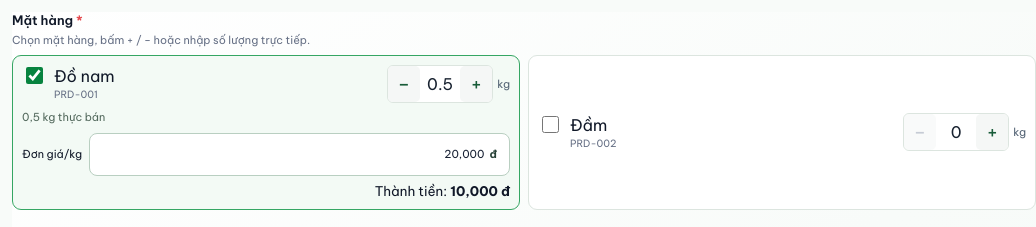
Scenario: OrderItemSelector quantity steppers › recomputes sale money after half-kg steps without changing unit price
Click the button "+" in the row of "Đồ nam" at (476, 84), box x1=460 y1=66 x2=492 y2=102
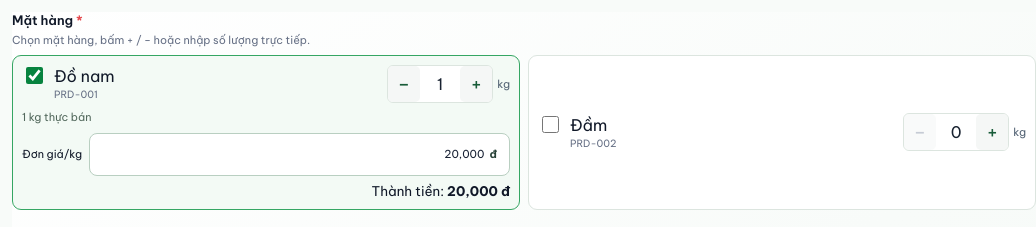
Expected: the text "20,000 đ" is shown, x1=447 y1=183 x2=510 y2=200
Click the button "−" in the row of "Đồ nam" at (404, 84), box x1=388 y1=66 x2=420 y2=102
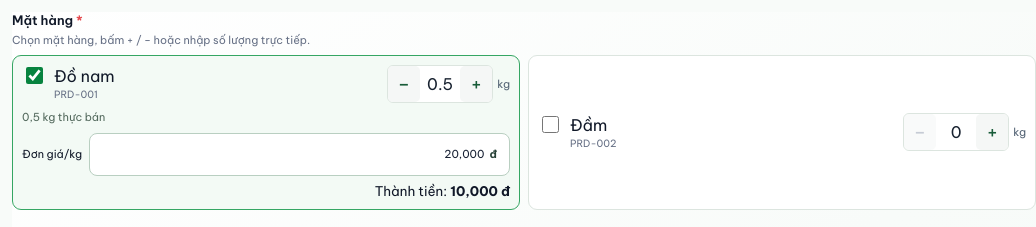
Expected: the text "10,000 đ" is shown, x1=450 y1=183 x2=510 y2=200
